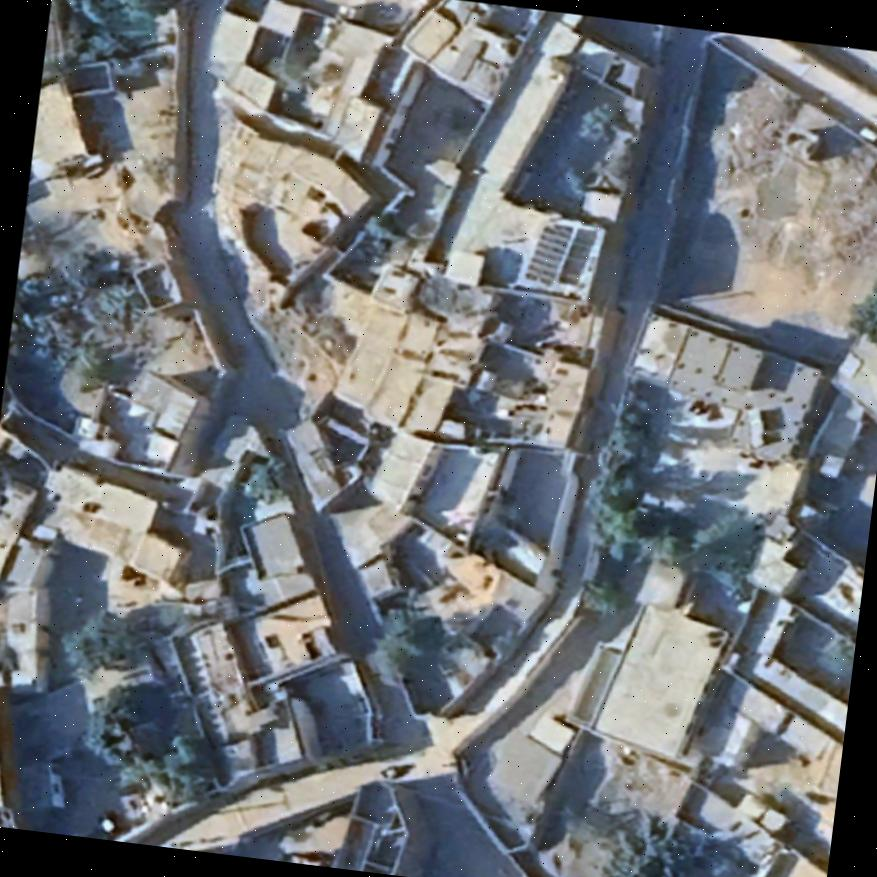Solarpanel: (521, 216, 576, 288)
